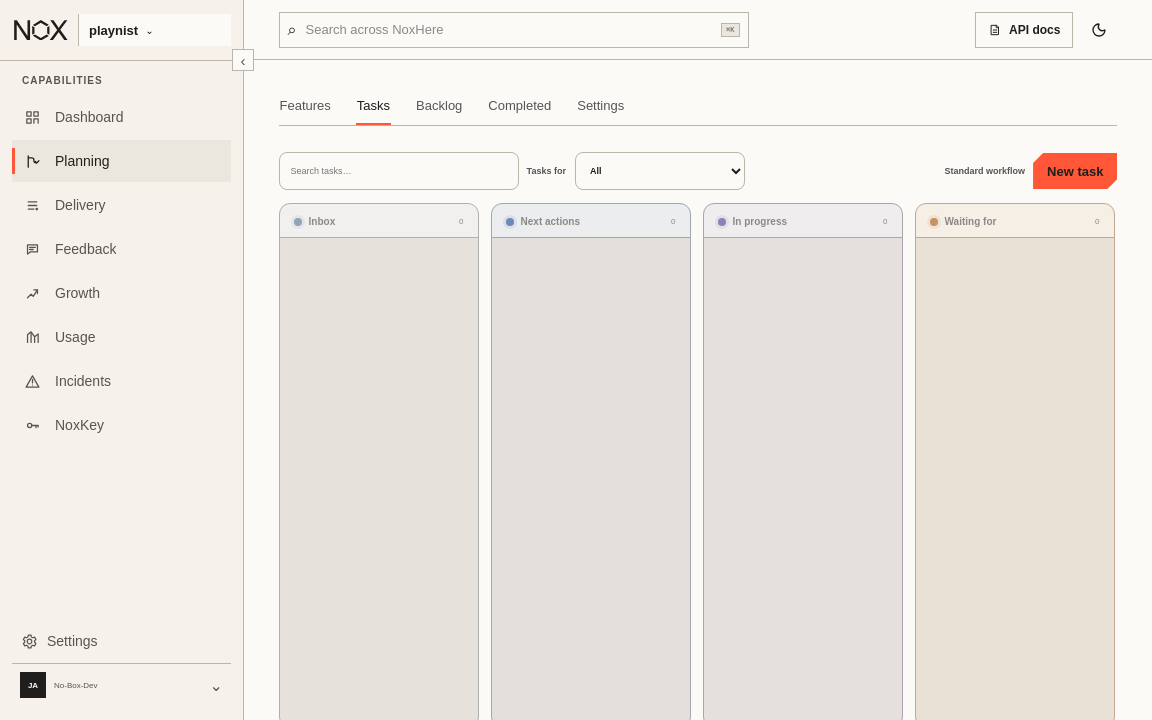
Test: NoxHere API-backed platform › gives each person a GTD task workflow and only lets the signed-in person customize their own
The image size is (1152, 720).
Expected: the text "Inbox" is shown, left=308, top=216, right=335, bottom=227
Expected: the text "Next actions" is shown, left=520, top=216, right=580, bottom=227
Select "JasperNoBoxDev (you)" in the dropdown named "Tasks for person": (660, 171) left=575, top=152, right=745, bottom=190
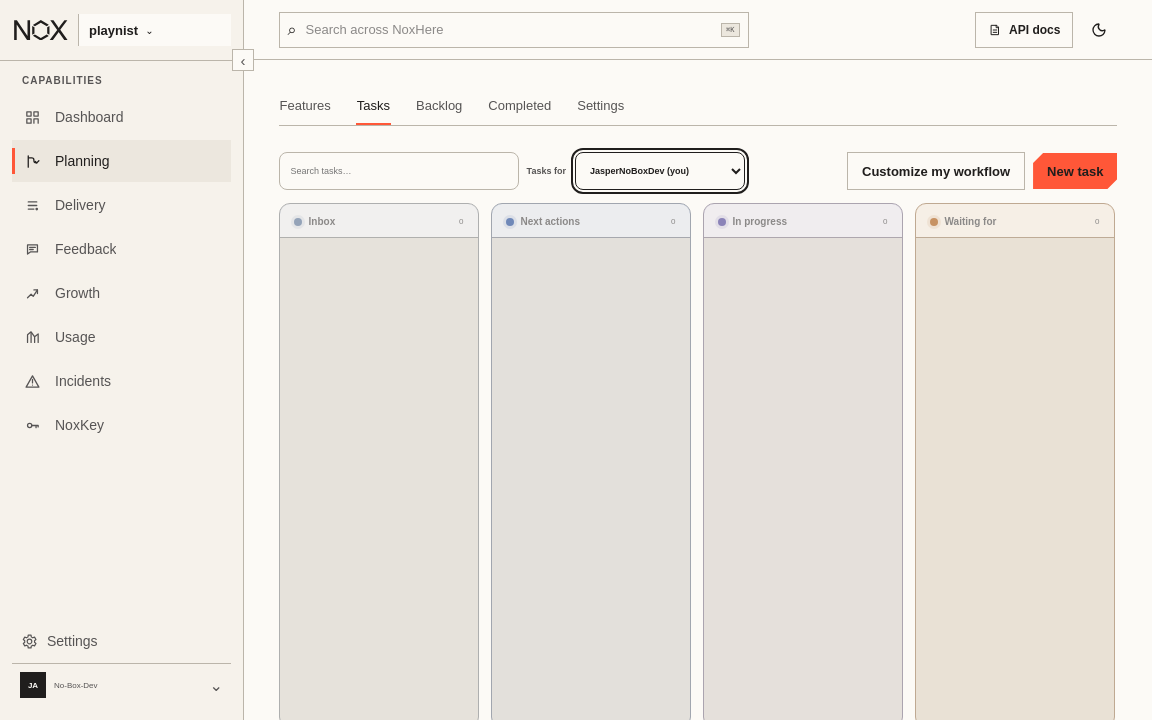
Click the button "Customize my workflow": (936, 171) left=847, top=152, right=1025, bottom=190
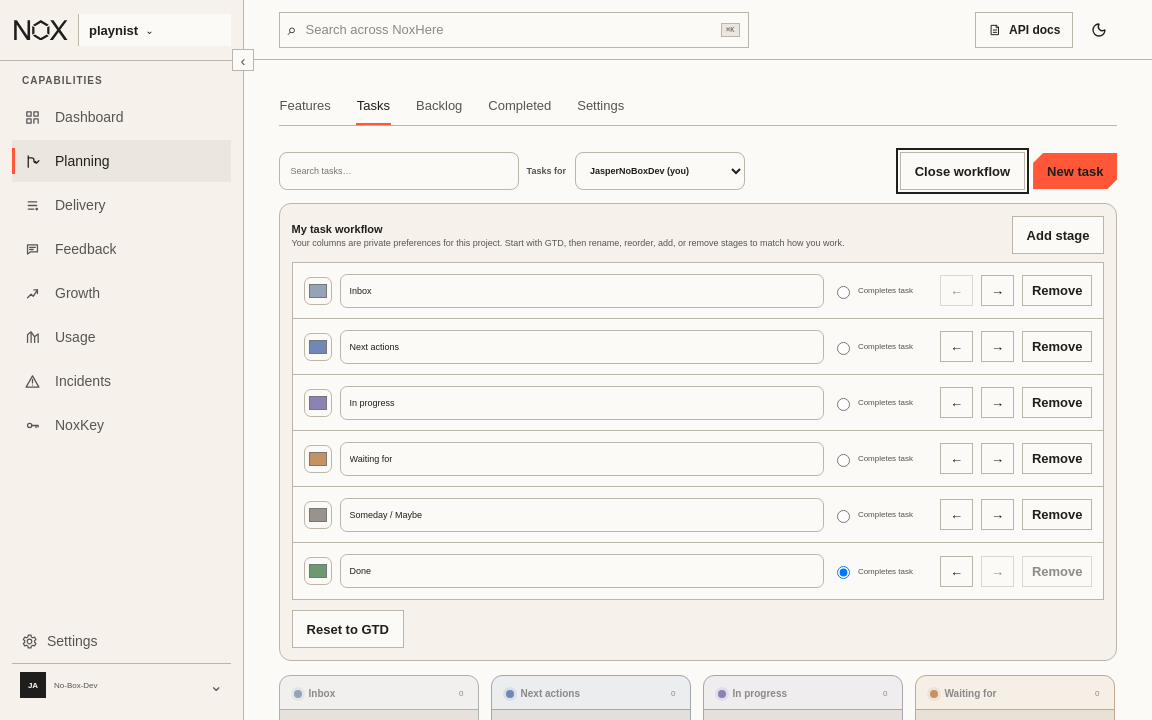
Result: the text "My task workflow" is shown at left=292, top=222, right=383, bottom=234
Replace the text in the field named "Stage 1 name" with "Capture": (582, 290) left=340, top=274, right=824, bottom=308
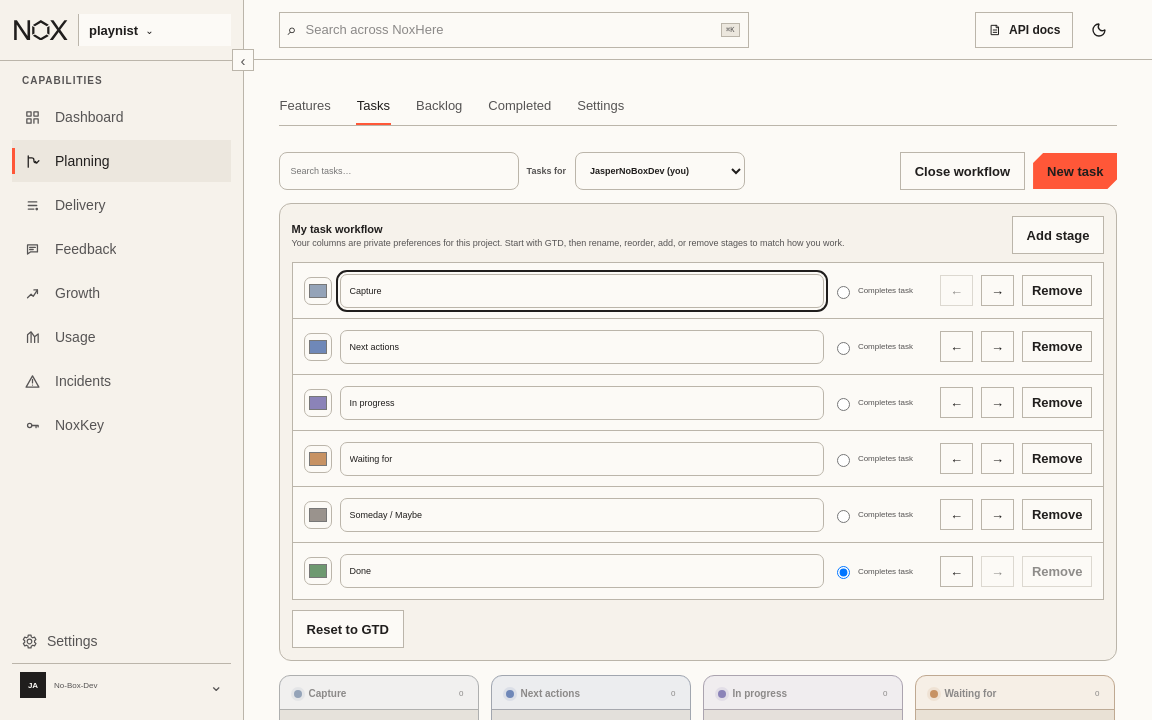
Press Tab
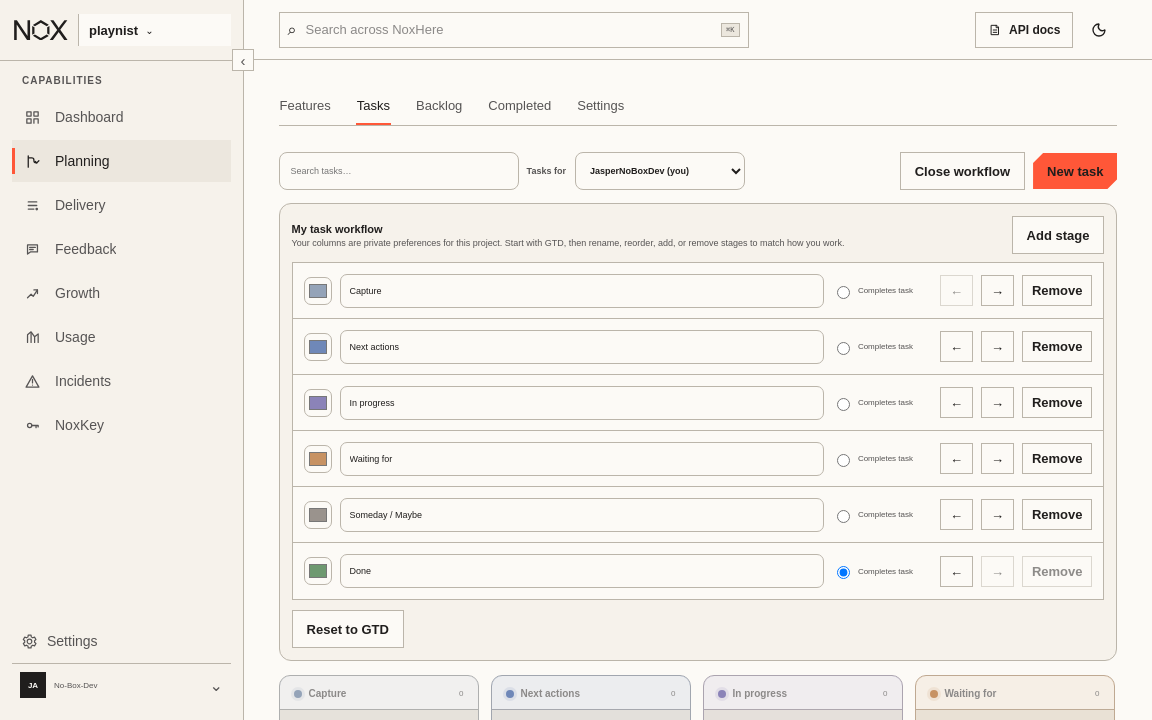
Select "memenoboxdev" in the dropdown named "Tasks for person": (660, 171) left=575, top=152, right=745, bottom=190
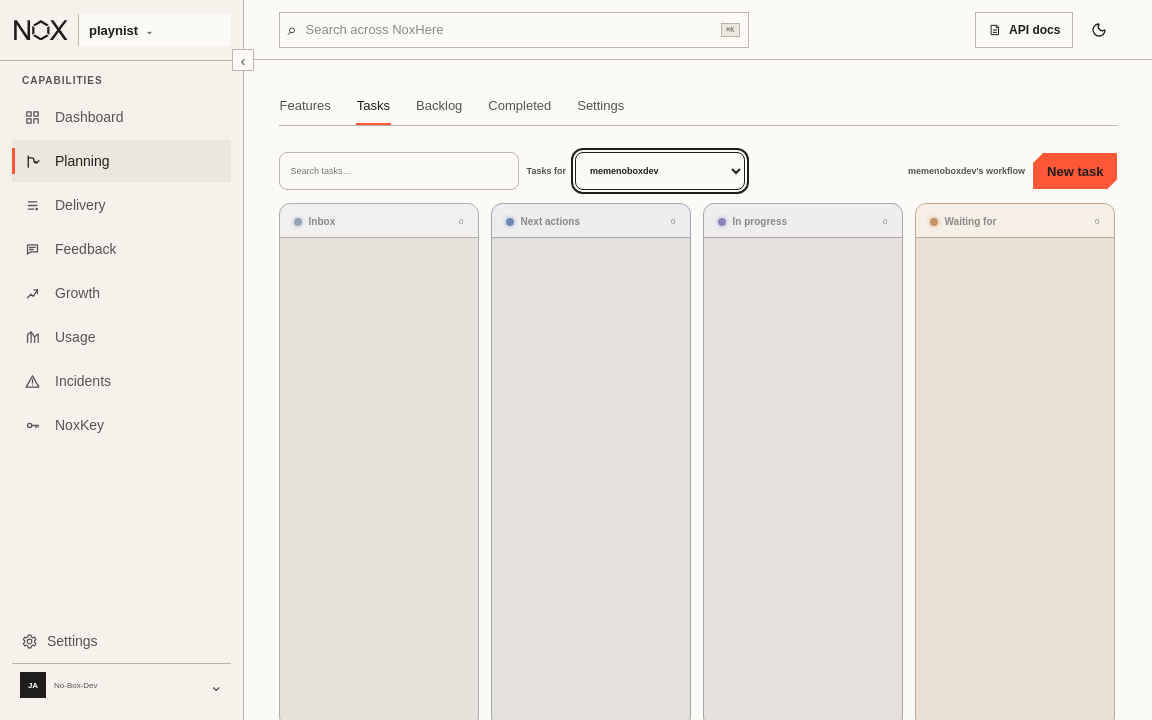
Expected: the button "Customize my workflow" is not shown
Result: the text "memenoboxdev's workflow" is shown at left=908, top=166, right=1025, bottom=176
